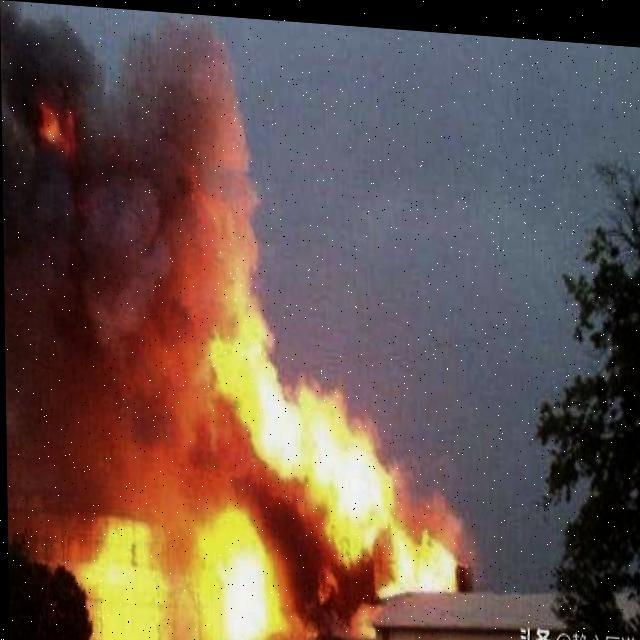Fire: (210, 220, 464, 594), (68, 470, 286, 639)
